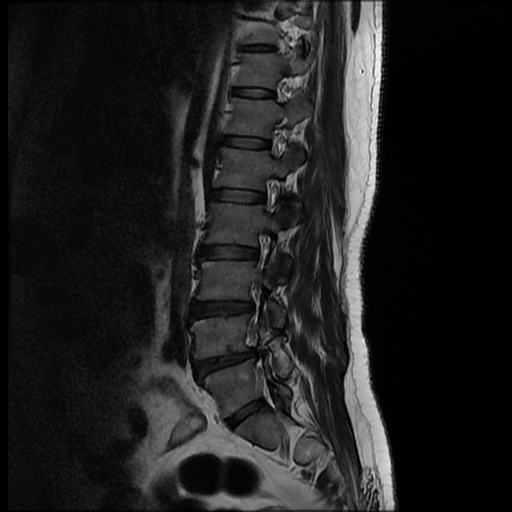RFS0: (251, 169, 289, 218)
